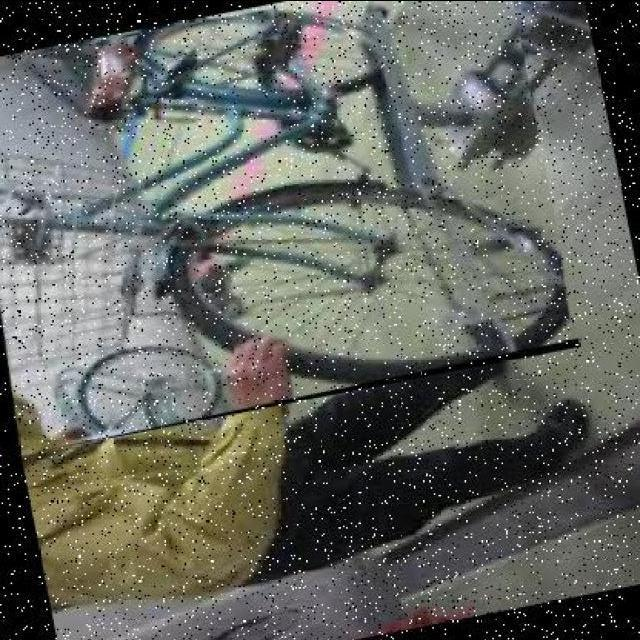bicycle: (1, 2, 583, 456)
